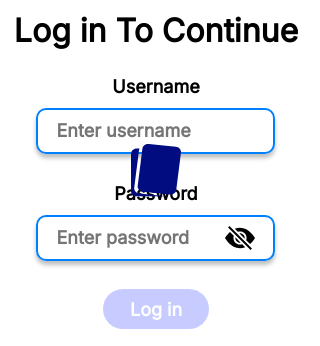
CredentialsForm component › receives slot 'Log in' › should unset disabled when setting username and password values with 'AlexanderTheWise' and 'wiseuser'
The width and height of the screenshot is (320, 346).
Expected: the button with class "credentials__button" is disabled, x1=102 y1=289 x2=209 y2=329
Type "AlexanderTheWise" into the field labelled "Username" at coordinates (156, 131), box x1=36 y1=108 x2=276 y2=154
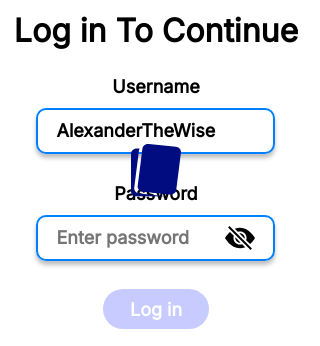
Type "wiseuser" into the password field labelled "Password" at coordinates (136, 238), box x1=56 y1=217 x2=216 y2=259
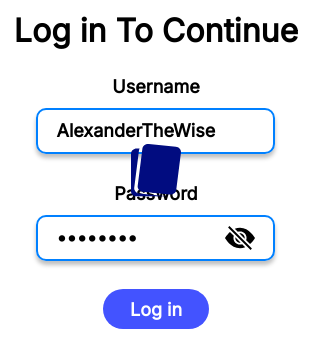
Expected: the button with class "credentials__button" is enabled, x1=102 y1=289 x2=209 y2=329
